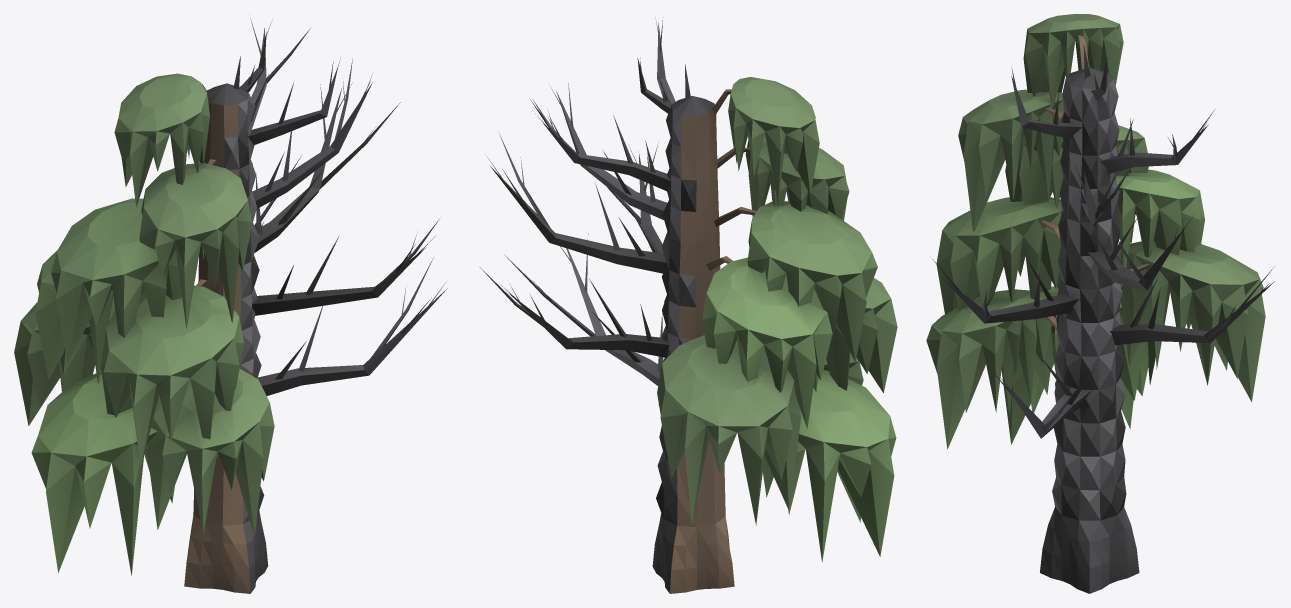
Rendered from scorched.glb.
The picture shows the model from 3 angles, left to right: view 1: azimuth 30°, elevation 25°; view 2: azimuth 150°, elevation 25°; view 3: azimuth 270°, elevation 25°; orthographic projection. The views are drawn at different scales.
Visible parts, largest first — view 1: scorched; view 2: scorched; view 3: scorched.
Part boxes in pixels (x1=…): scorched: x1=14, y1=18, x2=447, y2=593; scorched: x1=480, y1=17, x2=897, y2=593; scorched: x1=926, y1=14, x2=1275, y2=593.
Size of the model in its own units: 7.06 by 9.03 by 5.27.
